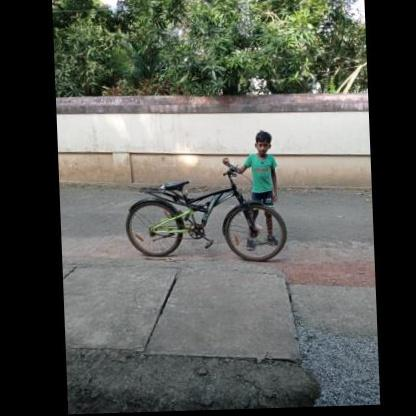Bicycle: (114, 150, 297, 270)
